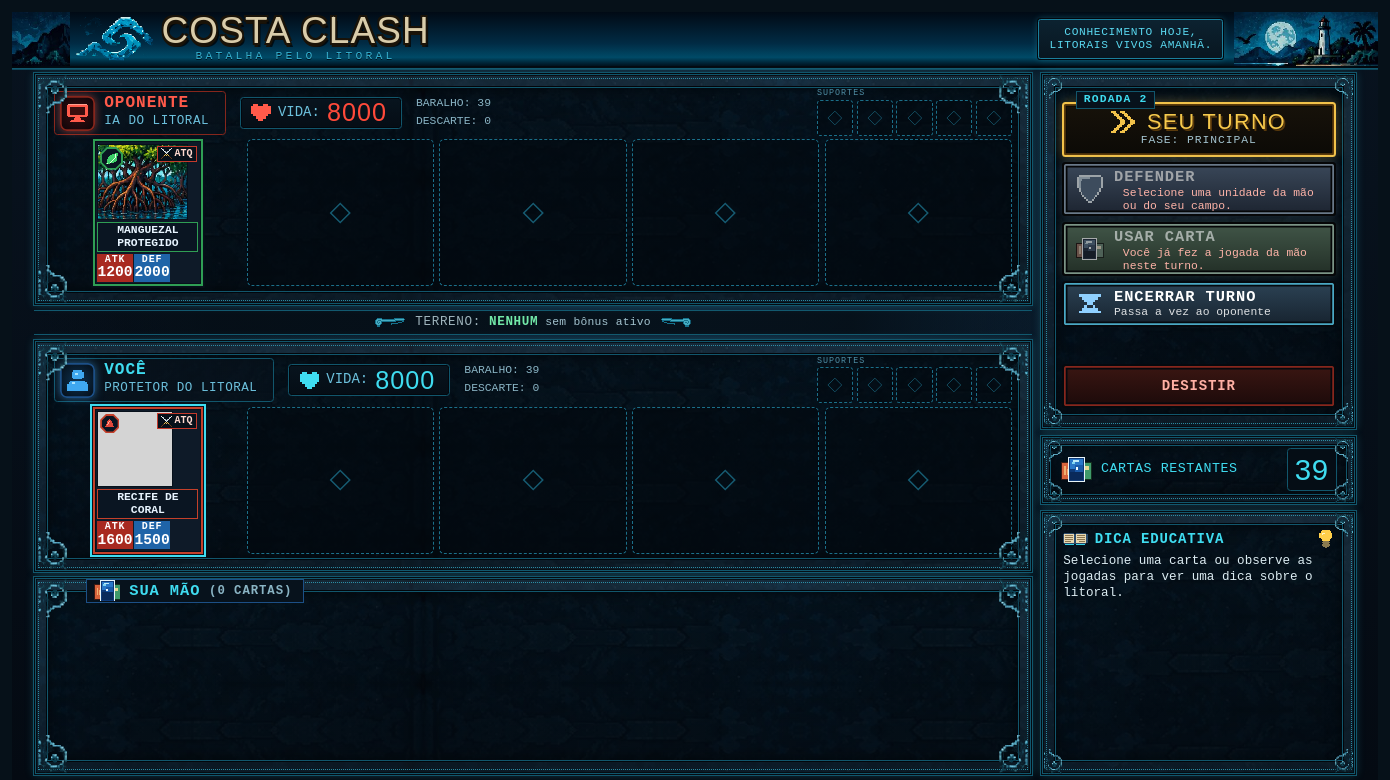
ataque por seta › soltar fora de alvo cancela sem alterar vida/campo; Escape também cancela
The width and height of the screenshot is (1390, 780).
Step 1. Press the mouse on the button "Recife de Coral ATK 1600 DEF 1500 ATQ" → (148, 480), box [93,407,203,554]
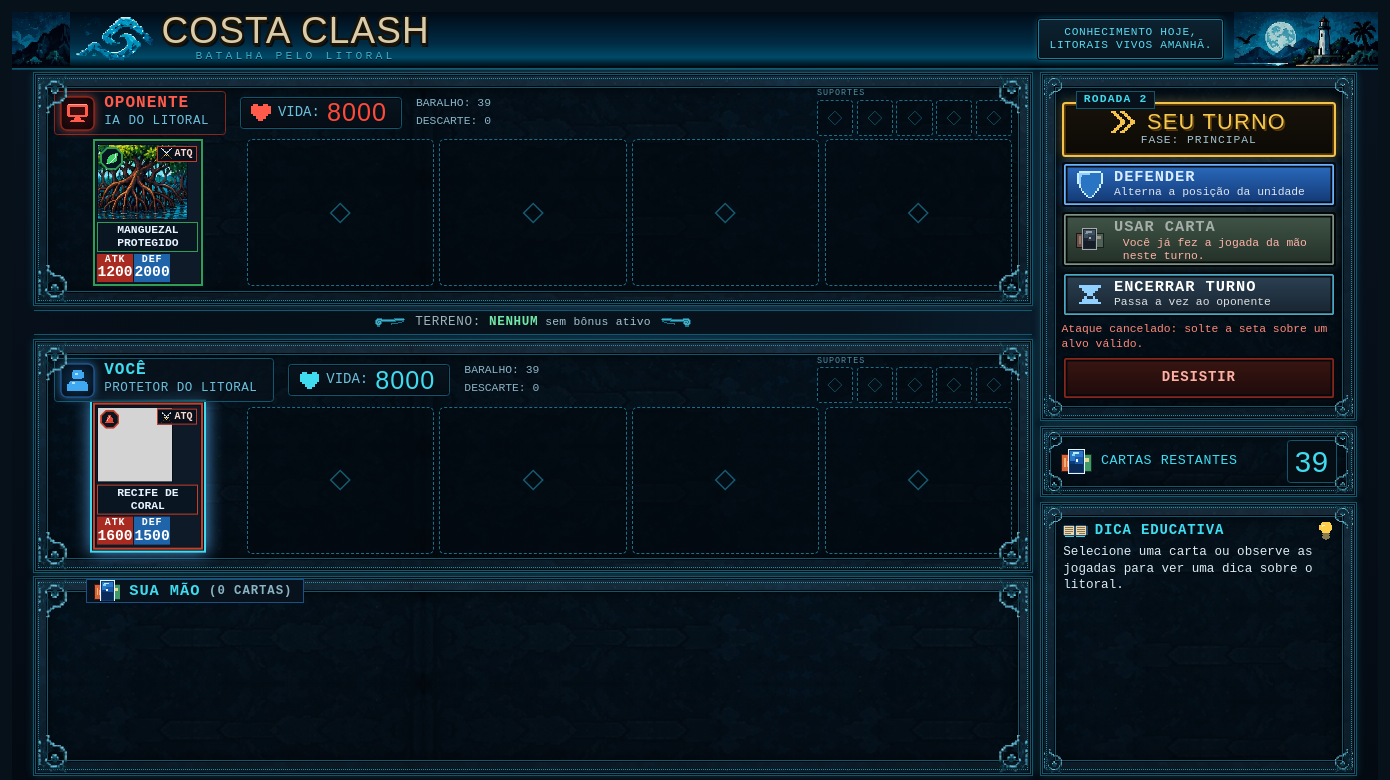
Expected: the element named "Vida do oponente: 8000" is shown, [240,97,402,129]
Expected: the message with class "duelo-aviso" shows "Ataque cancelado", [1062,323,1327,350]
Step 2. Press the mouse on the button "Recife de Coral ATK 1600 DEF 1500 ATQ" → (148, 476), box [93,402,203,549]
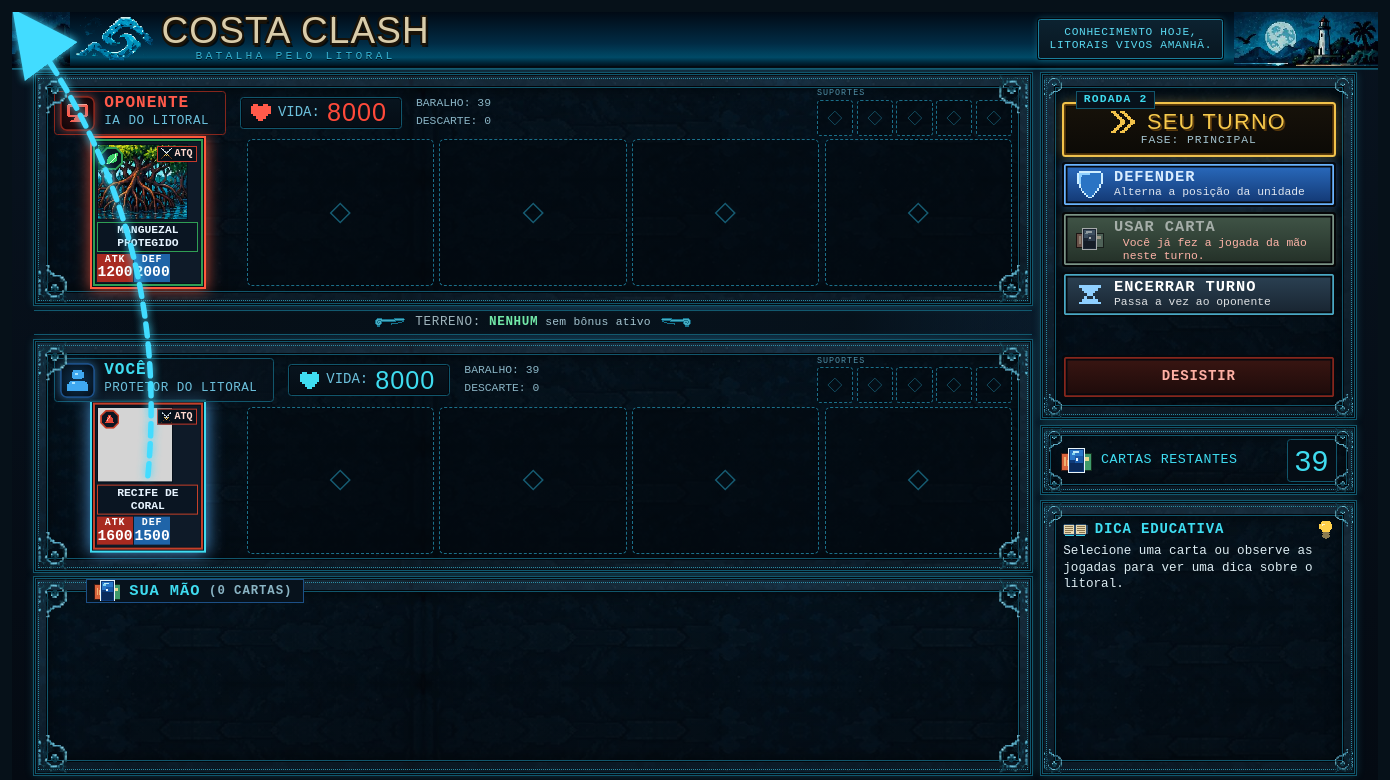
Expected: the icon with class "duelo-seta-ataque" is shown
Step 3. Press Escape
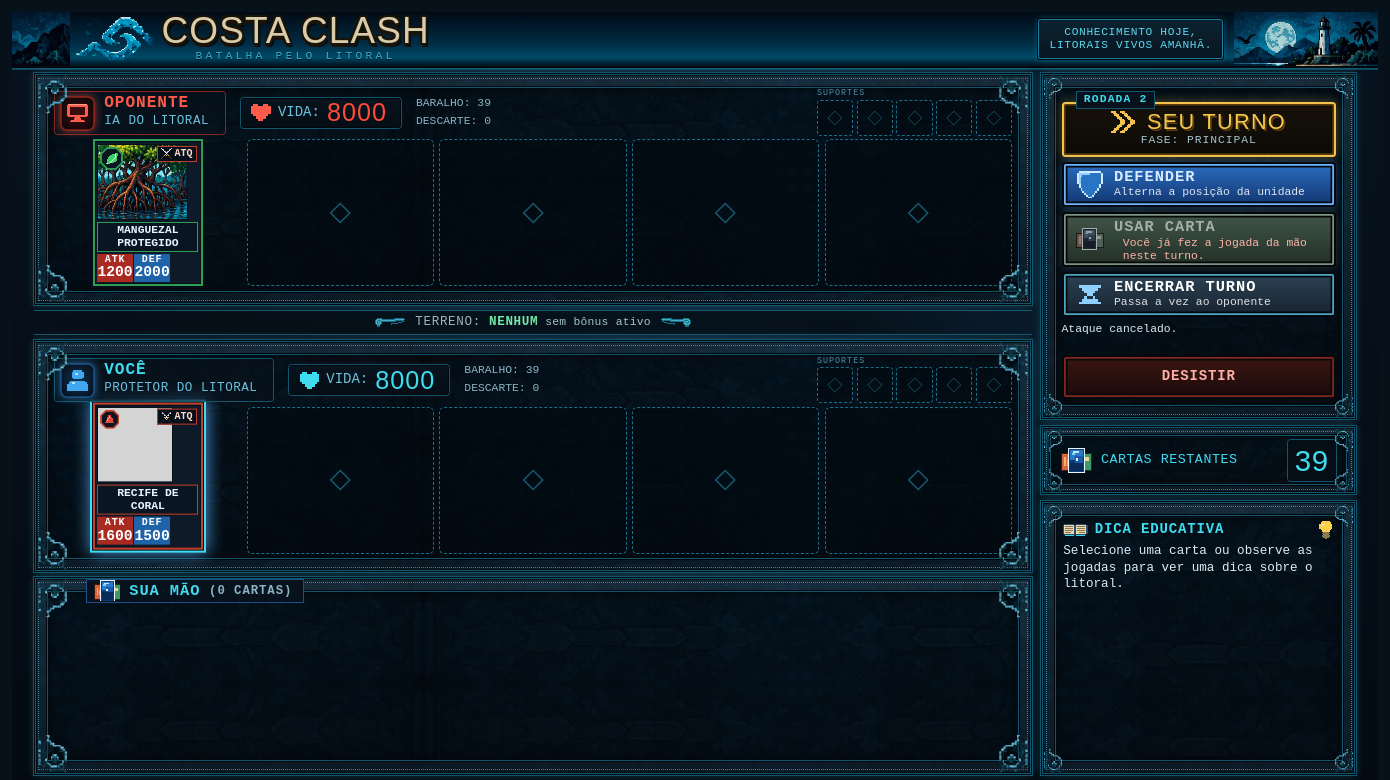
Expected: the element named "Vida do oponente: 8000" is shown, [240,97,402,129]
Expected: the icon with class "duelo-seta-ataque" is gone
